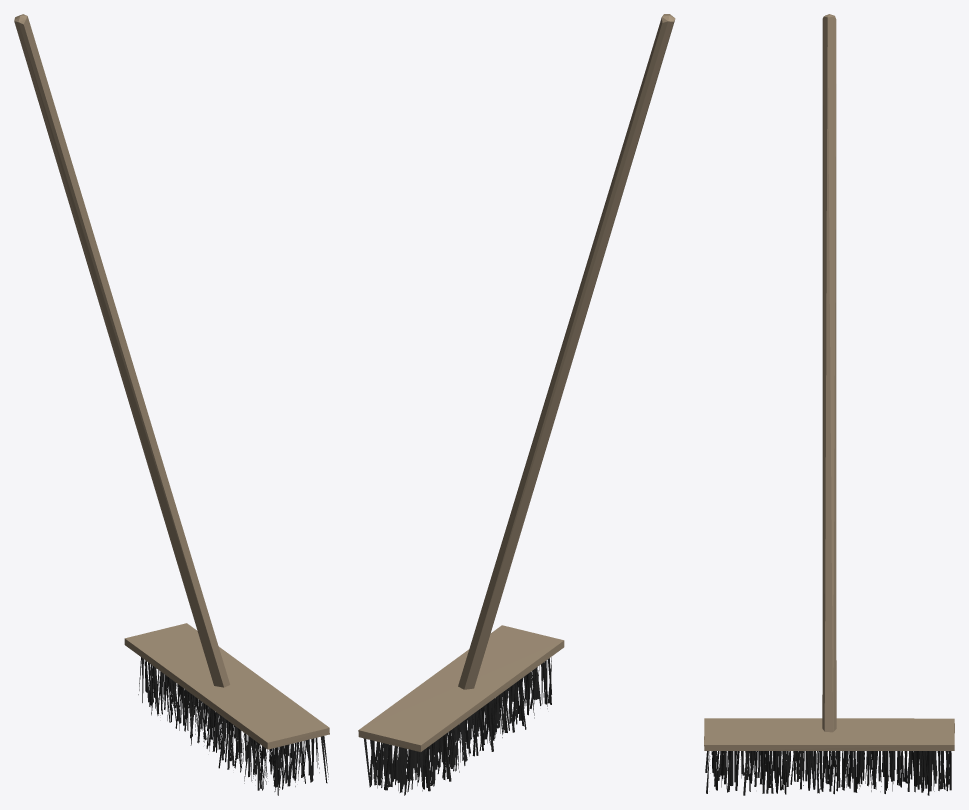
Rendered from broom.fbx.
The picture shows the model from 3 angles, left to right: view 1: azimuth 30°, elevation 25°; view 2: azimuth 150°, elevation 25°; view 3: azimuth 270°, elevation 25°; orthographic projection. The views are drawn at different scales.
Visible parts, largest first — view 1: Broom; view 2: Broom; view 3: Broom.
Part boxes in pixels (x1,y1,x2,y2): Broom: [14, 14, 329, 795]; Broom: [358, 14, 675, 795]; Broom: [704, 14, 954, 795].
Bounding box in the file's own units: 0.3344 × 1 × 0.3348.
